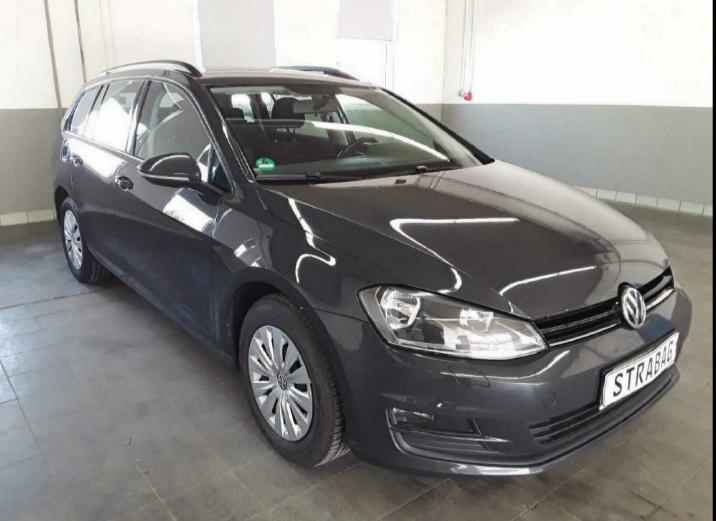Back-door: (71, 77, 147, 271)
Back-wheel: (60, 197, 111, 284)
Back-window: (93, 80, 143, 152), (70, 86, 101, 135)
Fender: (212, 174, 401, 357)
Front-bumper: (301, 286, 692, 479)
Front-door: (114, 78, 234, 343)
Front-wheel: (240, 292, 353, 470)
Front-window: (134, 82, 211, 182), (211, 151, 231, 193)
Grille: (532, 266, 675, 349)
Headlight: (357, 284, 549, 361)
Hood: (255, 160, 669, 320)
License-plate: (598, 329, 680, 410)
Mirror: (136, 152, 234, 206)
Quarter-panel: (50, 130, 89, 248)
Rocker-panel: (88, 239, 236, 370)
Roof: (84, 60, 386, 92)
Trunk: (60, 85, 86, 130)
Windshield: (208, 85, 484, 185)
